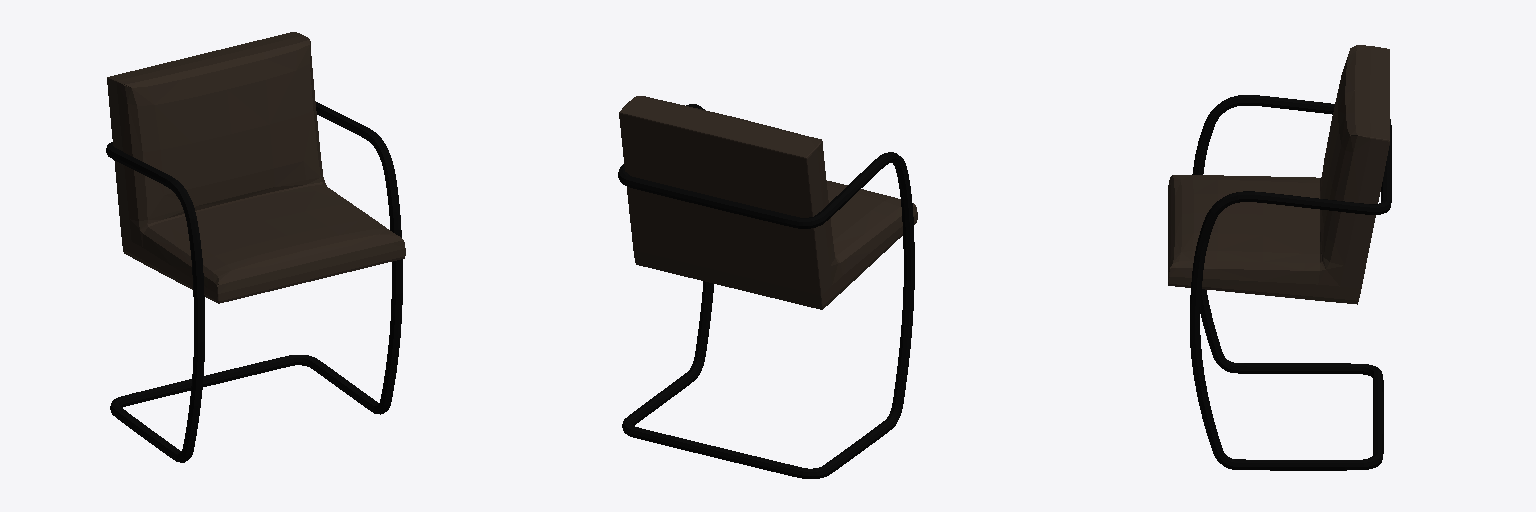
The model's file is tubular_chair.obj.
3 renders of one model, left to right at view 1: azimuth 30°, elevation 25°; view 2: azimuth 150°, elevation 25°; view 3: azimuth 270°, elevation 25°, orthographic.
Visible parts, largest first — view 1: chair_back_Cube.001, chair_sop_Cube.005; view 2: chair_back_Cube.001, chair_sop_Cube.005; view 3: chair_back_Cube.001, chair_sop_Cube.005.
Boxes of the visible parts, x1=… form: chair_back_Cube.001: x1=107, y1=32, x2=405, y2=303; chair_sop_Cube.005: x1=106, y1=102, x2=402, y2=462; chair_back_Cube.001: x1=619, y1=96, x2=917, y2=309; chair_sop_Cube.005: x1=618, y1=104, x2=914, y2=478; chair_back_Cube.001: x1=1168, y1=45, x2=1389, y2=304; chair_sop_Cube.005: x1=1190, y1=95, x2=1391, y2=470.
Size of the model in its own units: 0.5288 by 0.8095 by 0.4957.